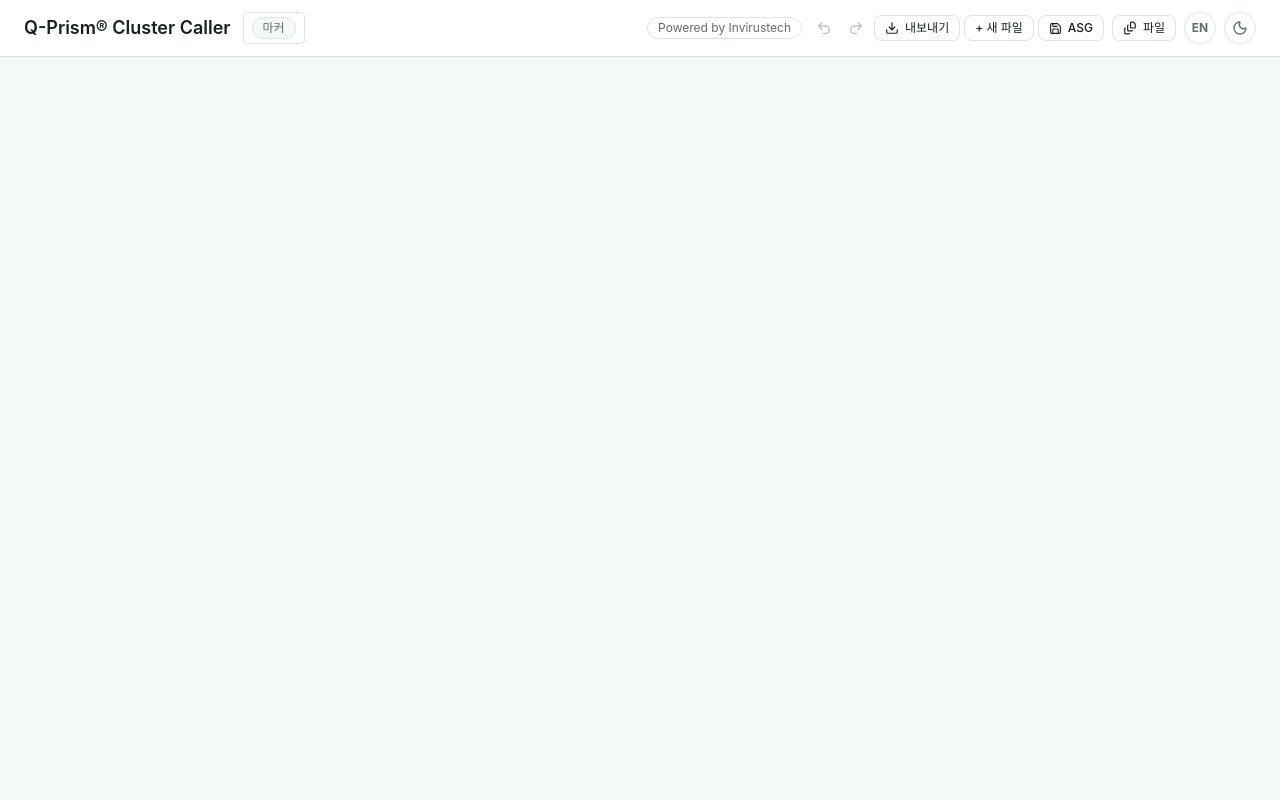
Test: refreshes on revision conflict and requires a separate confirmation without automatic replacement export
The width and height of the screenshot is (1280, 800).
Click the button "내보내기". click: (917, 28)
box: top-left (874, 15), bottom-right (960, 41)
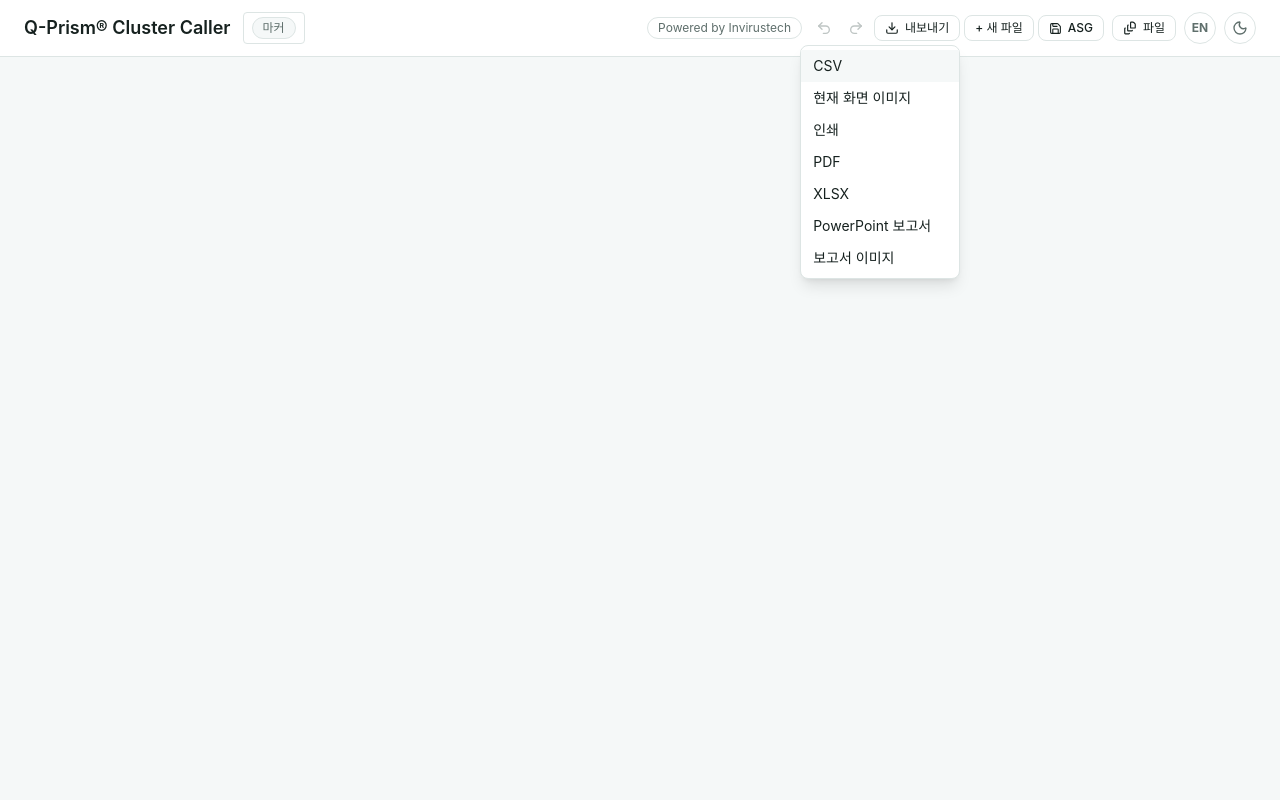
Click the menu item "CSV". click: (880, 66)
box: top-left (801, 50), bottom-right (959, 82)
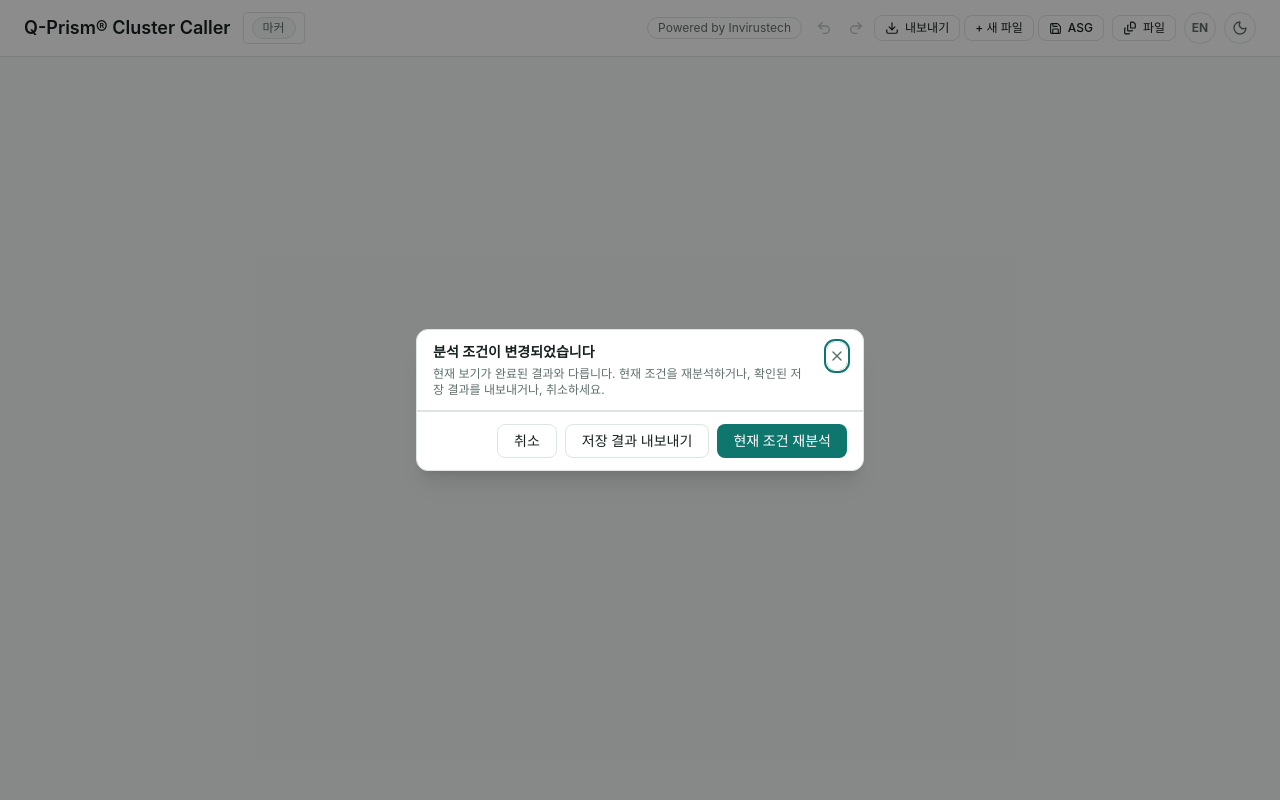
Expected: the dialog is shown, top-left (416, 329), bottom-right (864, 471)
